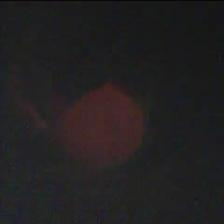fertile: (55, 86, 149, 172)
